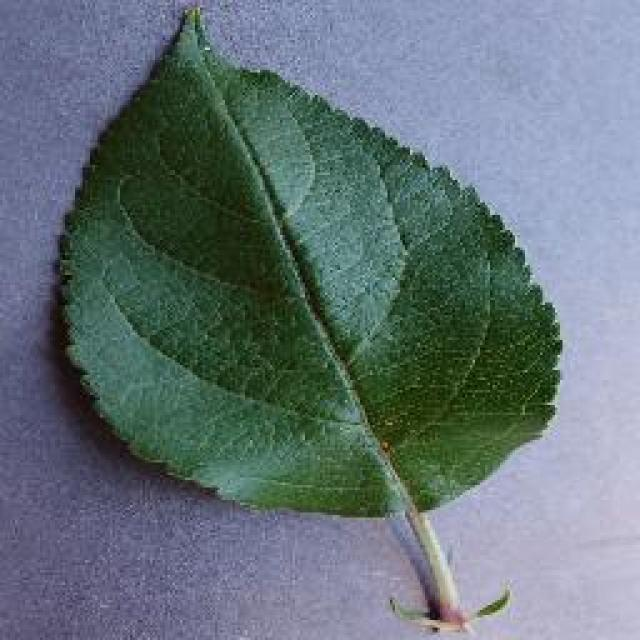apple healthy: (50, 0, 565, 638)
